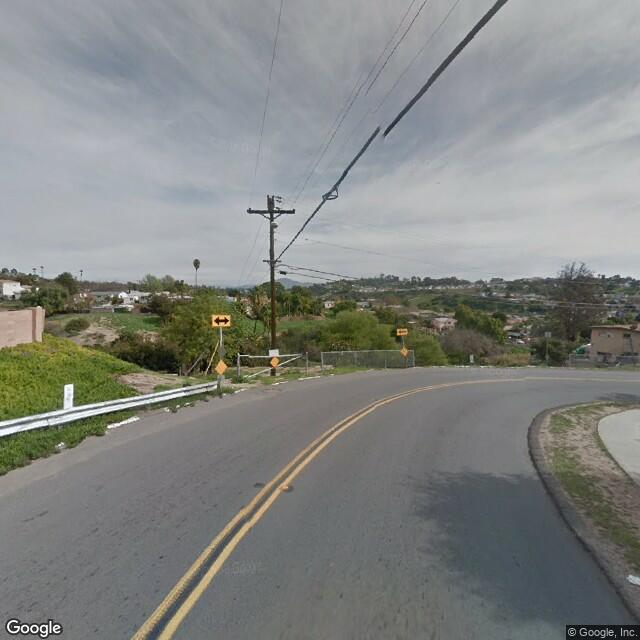litter: (619, 568, 640, 593)
